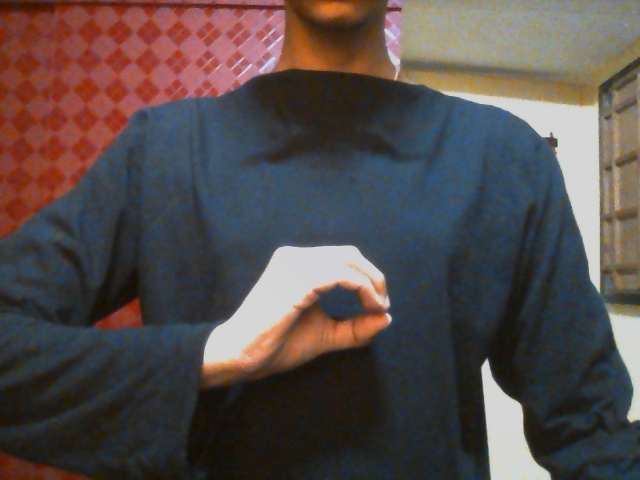O: (231, 240, 394, 398)
